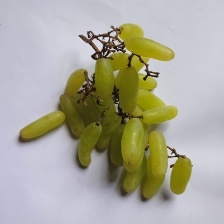grapes: (16, 34, 177, 202)
